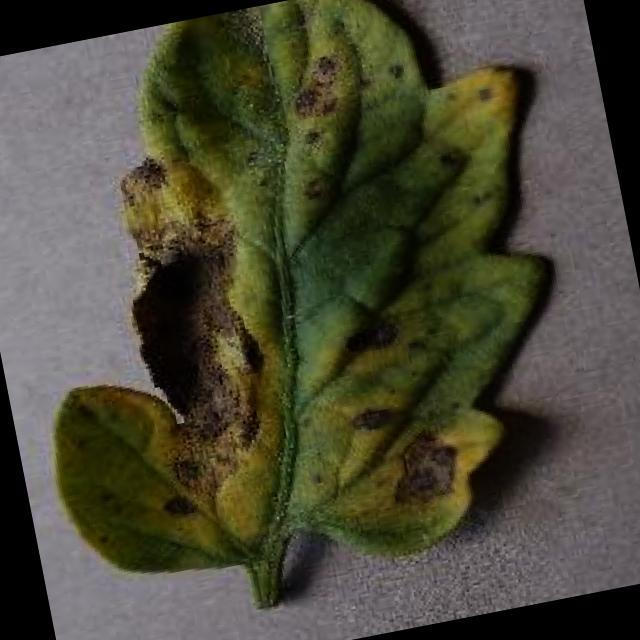Tomato Early blight leaf: (0, 0, 609, 617)
